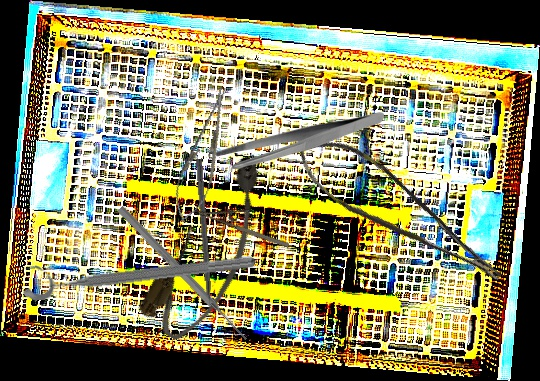Cannula: (132, 148, 292, 350)
Dressing Forceps: (215, 112, 385, 169)
Fixation Ring: (18, 236, 257, 303)
Hook Surgical: (193, 158, 214, 318)
Micro Scissor: (287, 117, 508, 316)
Needle Holder: (167, 82, 240, 227), (192, 190, 296, 251)
Pusher: (115, 204, 251, 344)
